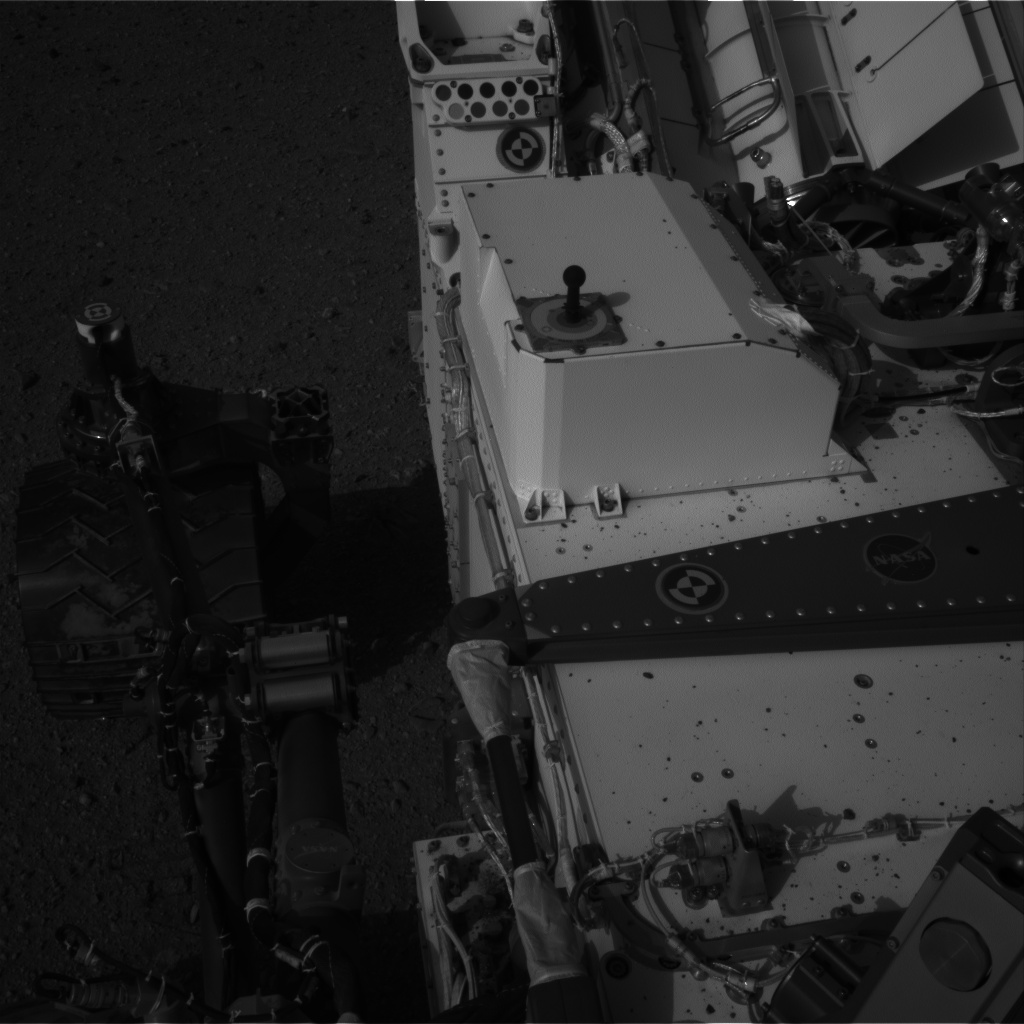soil: (10, 10, 387, 371), (27, 721, 111, 984), (21, 430, 28, 457)
